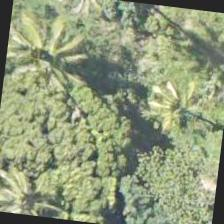Kelapa_Sawit: (123, 40, 223, 140), (2, 0, 97, 100), (0, 155, 69, 220)
